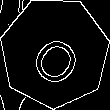O_NE: (23, 19, 87, 86)
